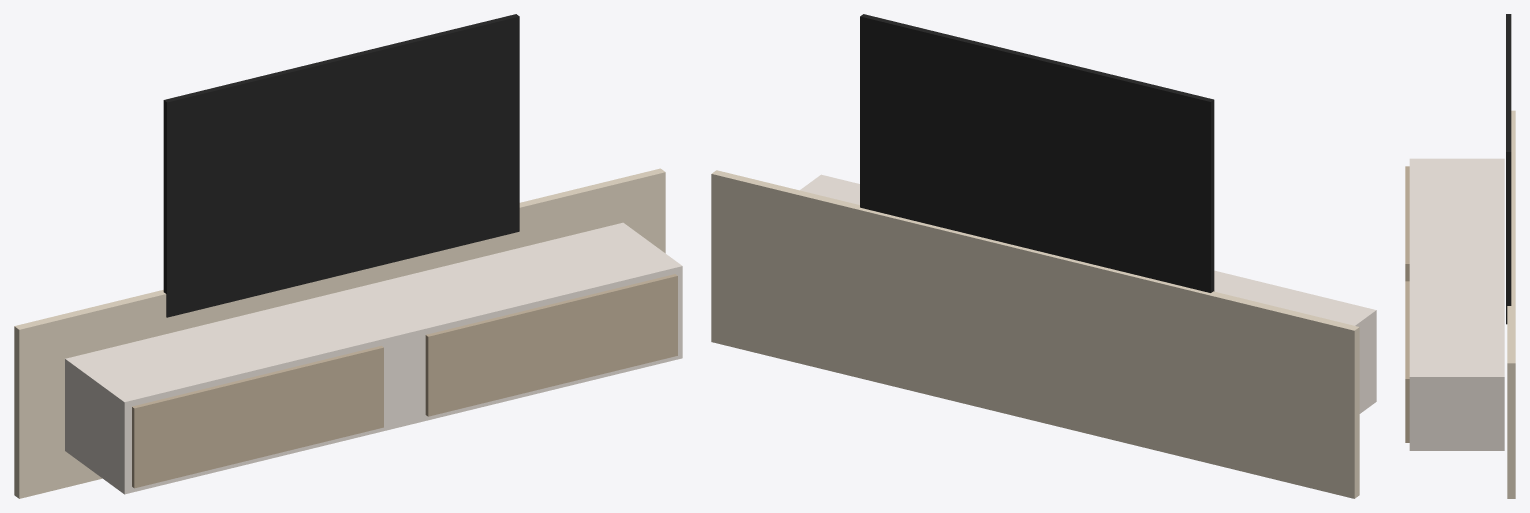
File: tv_wall.glb
The picture shows the model from 3 angles, left to right: view 1: azimuth 30°, elevation 25°; view 2: azimuth 150°, elevation 25°; view 3: azimuth 270°, elevation 25°; orthographic projection. The views are drawn at different scales.
Parts seen in each view (by area): view 1: tv_wall; view 2: tv_wall; view 3: tv_wall.
Part boxes in pixels (left/top/right/bottom): tv_wall: left=14, top=14, right=682, bottom=498; tv_wall: left=711, top=14, right=1376, bottom=498; tv_wall: left=1405, top=14, right=1515, bottom=498.
Bounding box in the file's own units: 2.2 × 1.17 × 0.405.
